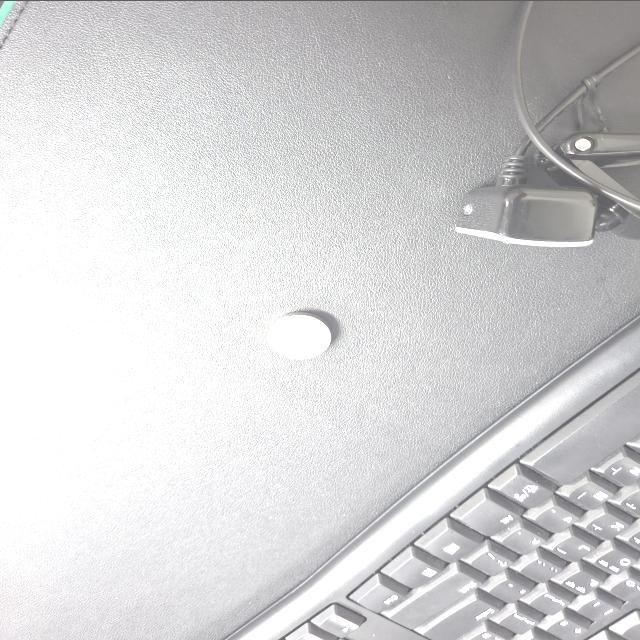COIN: (376, 362, 438, 408)
